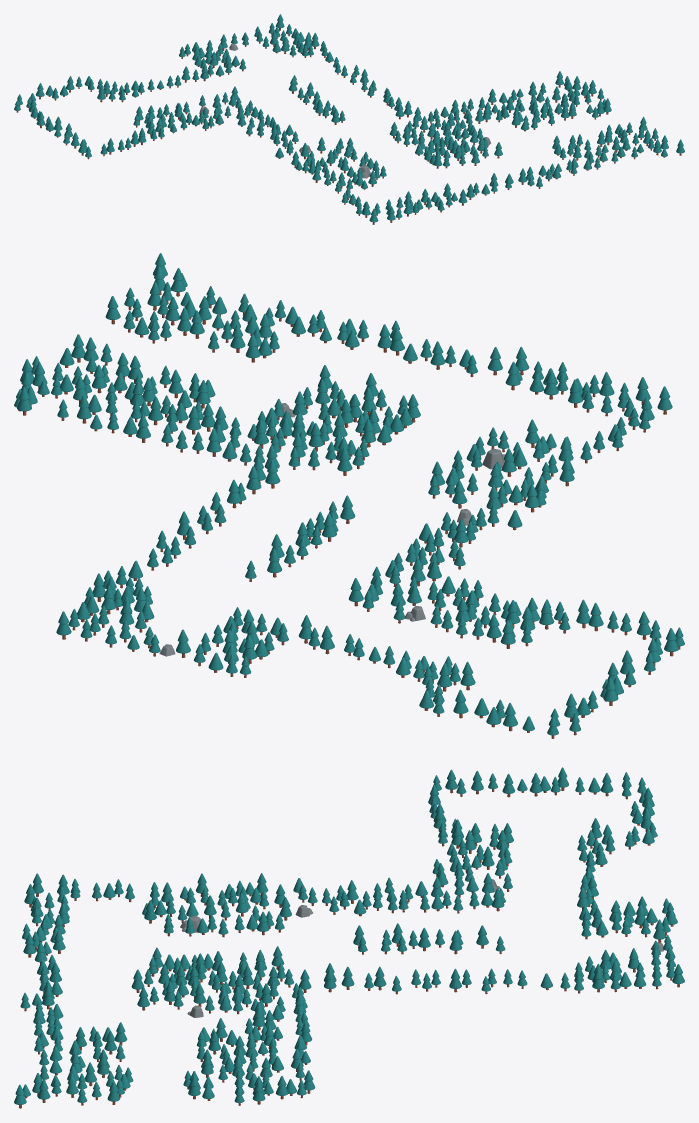
Rendered from Objetos (2).fbx.
3 views of the same model, one above another, from view 1: azimuth 30°, elevation 25°; view 2: azimuth 150°, elevation 25°; view 3: azimuth 270°, elevation 25° (orthographic). The views are drawn at different scales.
Bounding box in the file's own units: 148 × 5.13 × 130.
